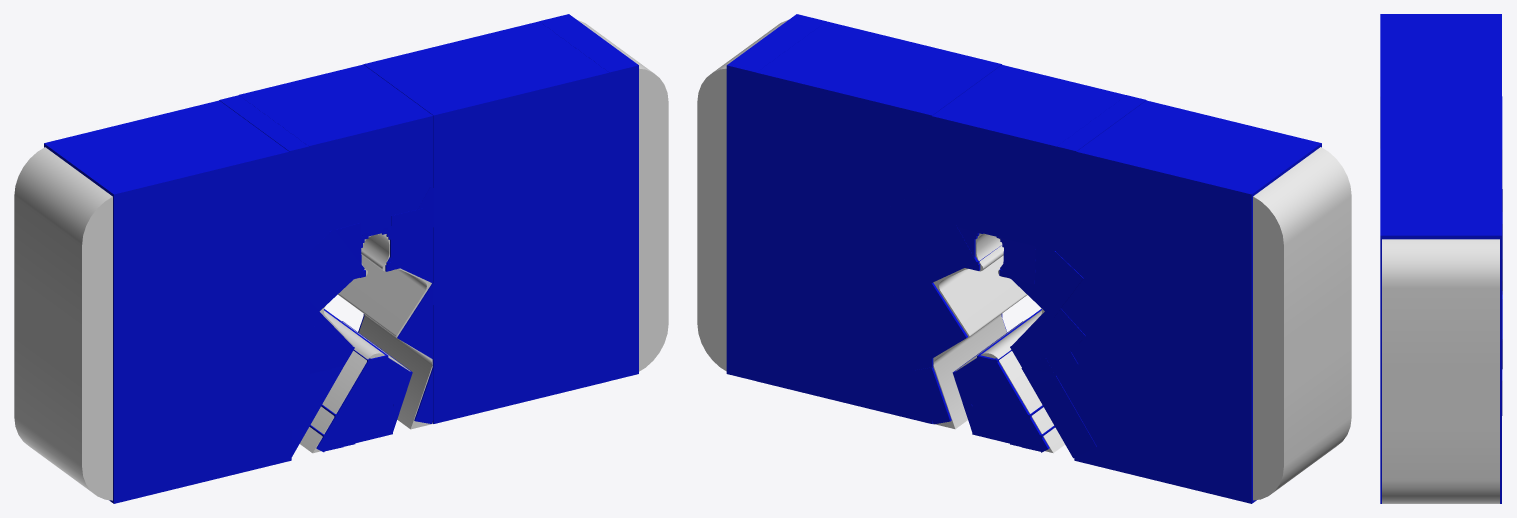
File: wall_model_2.fbx
The picture shows the model from 3 angles, left to right: view 1: azimuth 30°, elevation 25°; view 2: azimuth 150°, elevation 25°; view 3: azimuth 270°, elevation 25°; orthographic projection. The views are drawn at different scales.
Visible parts, largest first — view 1: Cube.001, Cube.002, 00CUR.002, Cube.005, Cube.003, Cube.004, Cube.008, Cube.015, Cube.025, Cube.009, Cube.007, Cube.010 (+4 smaller); view 2: Cube.001, Cube.002, 00CUR.002, Cube.005, Cube.003, Cube.004, Cube.010, Cube.009, Cube.006, Cube.008, Cube.011, Cube.025 (+5 smaller); view 3: 00CUR.002, Cube.002, Cube.001, Cube.005, Cube.003, Cube.004.
Part boxes in pixels (box(x1,y1,x2,y2)): Cube.001: box(44, 100, 291, 503); Cube.002: box(363, 21, 609, 423); 00CUR.002: box(14, 20, 668, 500); Cube.005: box(239, 64, 433, 250); Cube.003: box(539, 14, 638, 380); Cube.004: box(219, 95, 309, 430); Cube.008: box(309, 228, 364, 311); Cube.015: box(390, 208, 422, 269); Cube.025: box(354, 391, 392, 443); Cube.009: box(397, 283, 433, 359); Cube.007: box(309, 325, 354, 373); Cube.010: box(387, 186, 433, 283); Cube.001: box(1074, 100, 1321, 503); Cube.002: box(756, 21, 1002, 423); 00CUR.002: box(697, 19, 1351, 500); Cube.005: box(930, 65, 1126, 251); Cube.003: box(726, 14, 826, 380); Cube.004: box(1056, 95, 1146, 409); Cube.010: box(889, 188, 977, 283); Cube.009: box(884, 276, 967, 363); Cube.006: box(1021, 357, 1096, 458); Cube.008: box(1000, 246, 1083, 318); Cube.011: box(1012, 308, 1085, 375); Cube.025: box(972, 391, 1011, 443); 00CUR.002: box(1382, 239, 1499, 503); Cube.002: box(1380, 148, 1501, 222); Cube.001: box(1380, 14, 1501, 87); Cube.005: box(1380, 96, 1502, 211); Cube.003: box(1380, 223, 1501, 503); Cube.004: box(1380, 88, 1501, 148).
Bounding box in the file's own units: 500 × 253 × 104.
